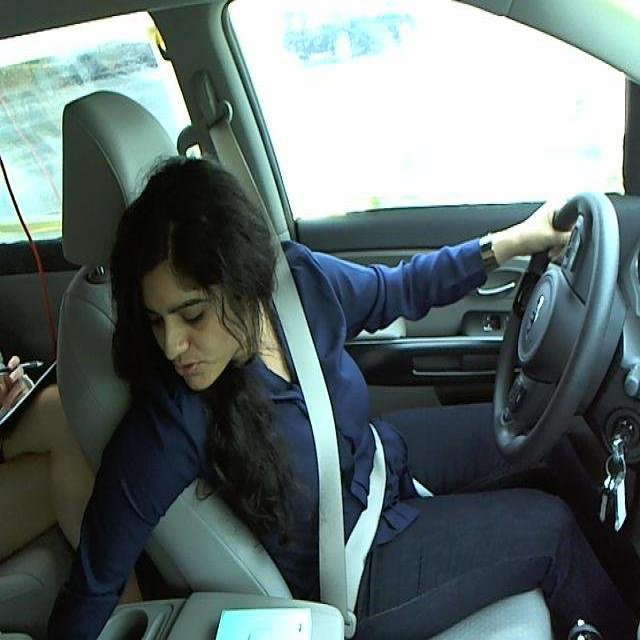seatbelt: (276, 290, 398, 610)
